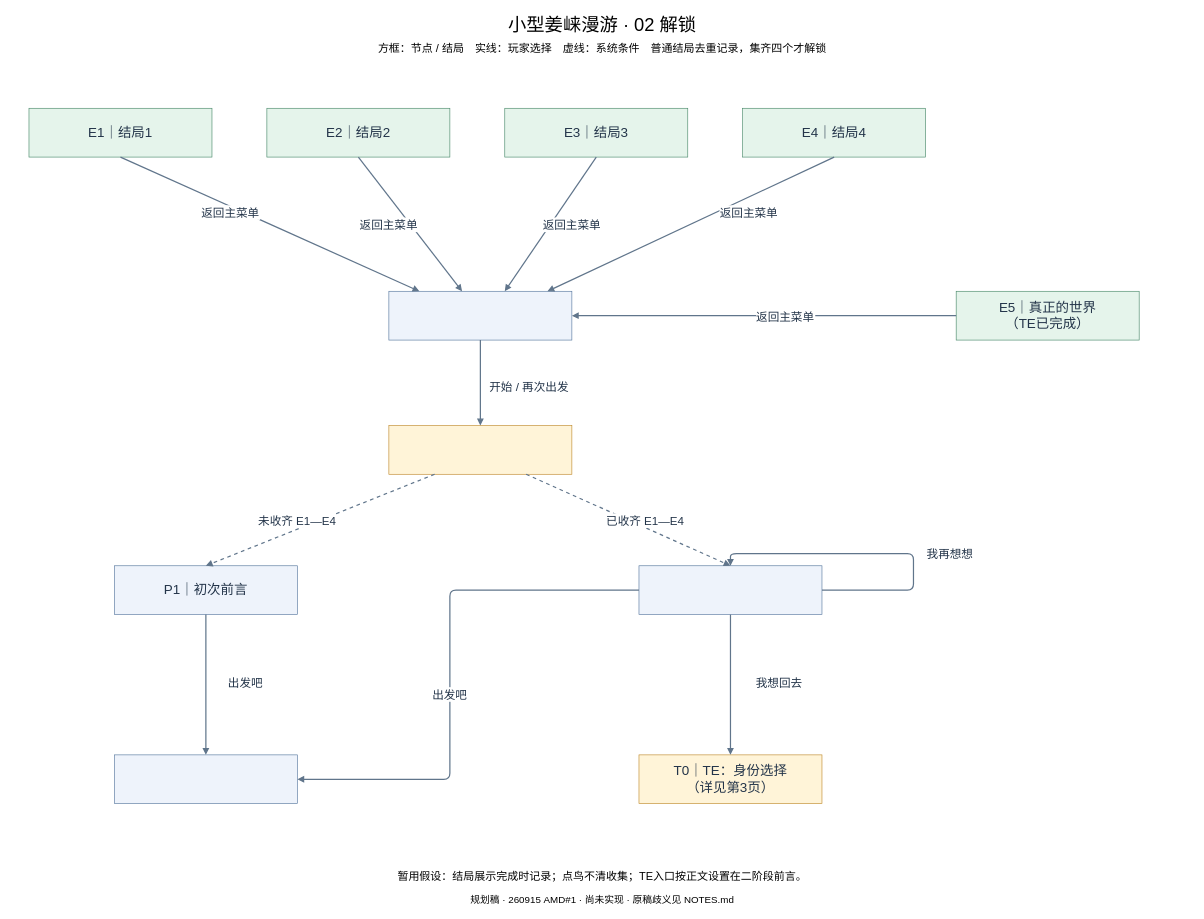
Some shapes in this 1204 by 919 pixel diagram are drawn without their labels. The shapes that lost their labels are listed below. From the top down, each one's centre as x and y in pixels, then its label:
At point (480, 315): "M｜主菜单".
At point (480, 449): "G｜进入条件检查".
At point (730, 590): "P2｜二阶段前言".
At point (205, 779): "L｜卢卡 （续一周目）".
